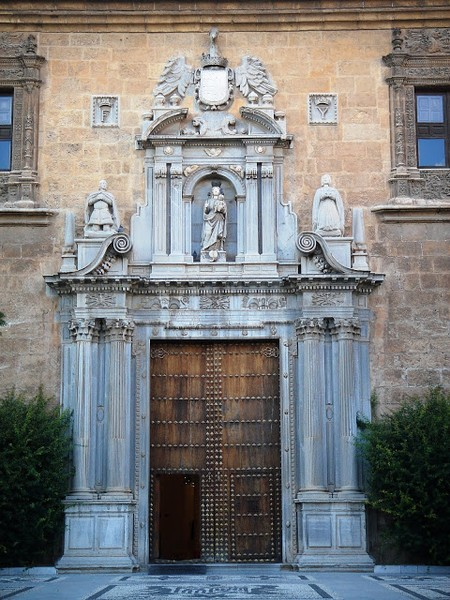fronton-partido: (43, 228, 370, 290), (141, 106, 285, 144)
vano-adintelado: (134, 319, 293, 572)
